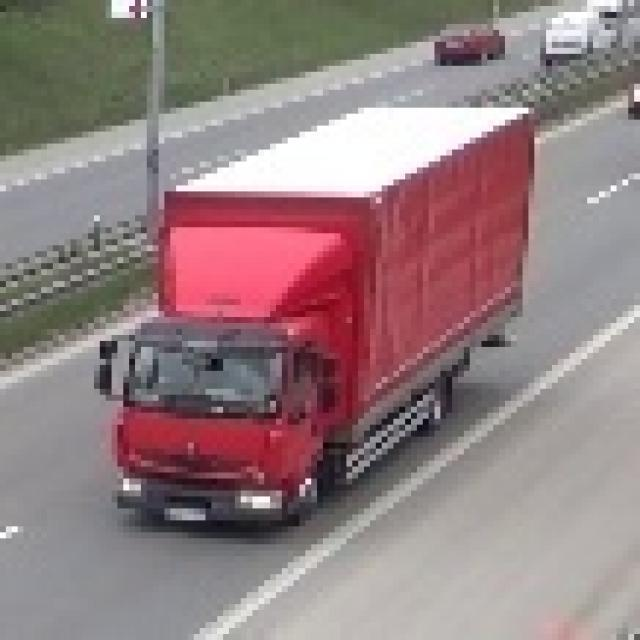truck: (88, 96, 529, 526)
